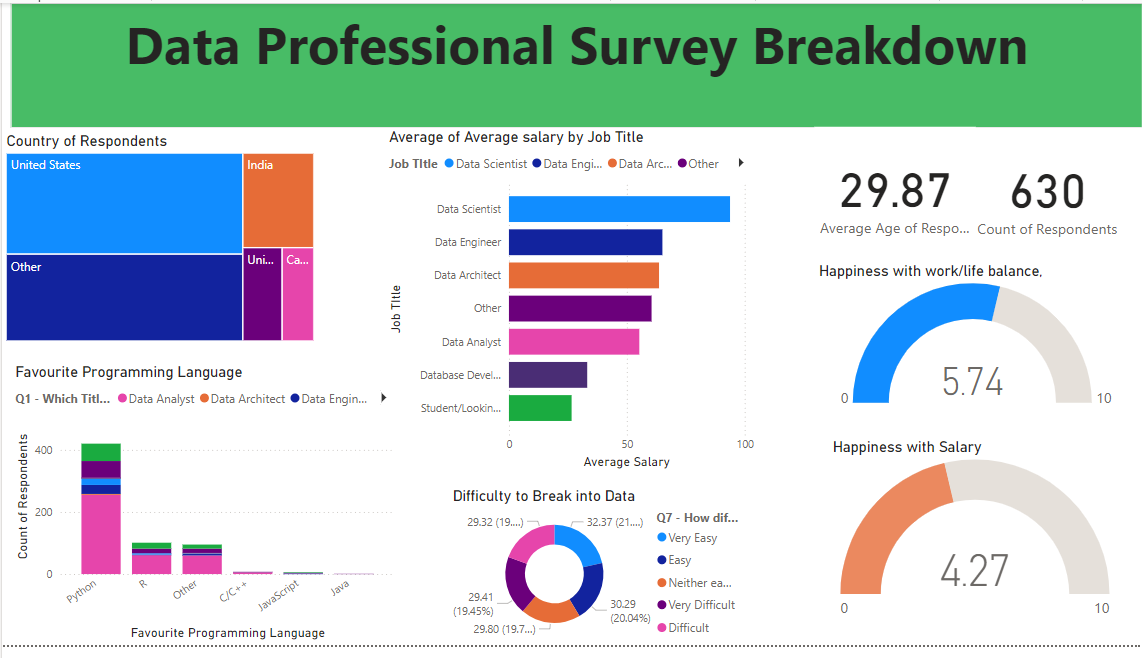

The page's visual inventory and layout, read from the dashboard file:
{"tool":"powerbi","page":{"name":"Page 1","canvas":[1280,720],"ordinal":0},"visuals":[{"type":"textbox","box":[9.6,0,1270.7,140],"z":0},{"type":"card","fields":{"Values":["CountNonNull(Data Professional Survey.Unique ID)"]},"box":[1071.7,140,203.1,149.6],"z":1000},{"type":"card","fields":{"Values":["Avg(Data Professional Survey.Q10 - Current Age)"]},"box":[911.5,138.8,180.9,150],"z":2000},{"type":"barChart","title":"Average of Average salary by Job Title","fields":{"Category":["Data Professional Survey.Q1 - Which Title Best Fits your Current Role?.1.1"],"Y":["Avg(Data Professional Survey.Average salary)"],"Series":["Data Professional Survey.Q1 - Which Title Best Fits your Current Role?.1.1"]},"box":[429.1,140.2,419.3,387],"z":3000},{"type":"columnChart","title":"Favourite Programming Language","fields":{"Category":["Data Professional Survey.Q5 - Favorite Programming Language.1"],"Series":["Data Professional Survey.Q1 - Which Title Best Fits your Current Role?.1.1"],"Y":["CountNonNull(Data Professional Survey.Unique ID)"]},"box":[9.8,403.9,436.1,315.5],"z":4000},{"type":"gauge","title":"Happiness with Salary","fields":{"Y":["Avg(Data Professional Survey.Q6 - How Happy are you in your Current Position with the following? (Salary))"],"MinValue":["Min(Data Professional Survey.Q6 - How Happy are you in your Current Position with the following? (Salary))1"],"MaxValue":["Max(Data Professional Survey.Q6 - How Happy are you in your Current Position with the following? (Salary))2"]},"box":[926.9,488,329.5,211.7],"z":5000},{"type":"gauge","title":"Happiness with work/life balance,","fields":{"Y":["Avg(Data Professional Survey.Q6 - How Happy are you in your Current Position with the following? (Work/Life Balance))"],"MinValue":["Min(Data Professional Survey.Q6 - How Happy are you in your Current Position with the following? (Work/Life Balance))1"],"MaxValue":["Max(Data Professional Survey.Q6 - How Happy are you in your Current Position with the following? (Work/Life Balance))2"]},"box":[911.5,290.3,363.2,168.3],"z":6000},{"type":"treemap","title":"Country of Respondents","fields":{"Group":["Data Professional Survey.Q11 - Which Country do you live in?.1"],"Values":["CountNonNull(Data Professional Survey.Q11 - Which Country do you live in?.1)"]},"box":[0,144.4,354.8,239.8],"z":7000},{"type":"donutChart","title":"Difficulty to Break into Data","fields":{"Category":["Data Professional Survey.Q7 - How difficult was it for you to break into Data?"],"Y":["Avg(Data Professional Survey.Q10 - Current Age)"]},"box":[500.6,542.7,336.5,176.7],"z":8000}]}

Visuals, with their boxes in screenshot pixels (x1, y1, x2, y2), scaled from the page's 1280x720 canvas onto the 1142x658 screenshot:
textbox: [left=9, top=0, right=1141, bottom=128]
card - CountNonNull(Data Professional Survey.Unique ID): [left=956, top=128, right=1137, bottom=265]
card - Avg(Data Professional Survey.Q10 - Current Age): [left=813, top=127, right=975, bottom=264]
"Average of Average salary by Job Title" barChart: [left=383, top=128, right=757, bottom=482]
"Favourite Programming Language" columnChart: [left=9, top=369, right=398, bottom=657]
"Happiness with Salary" gauge: [left=827, top=446, right=1121, bottom=639]
"Happiness with work/life balance," gauge: [left=813, top=265, right=1137, bottom=419]
"Country of Respondents" treemap: [left=0, top=132, right=317, bottom=351]
"Difficulty to Break into Data" donutChart: [left=447, top=496, right=747, bottom=657]
